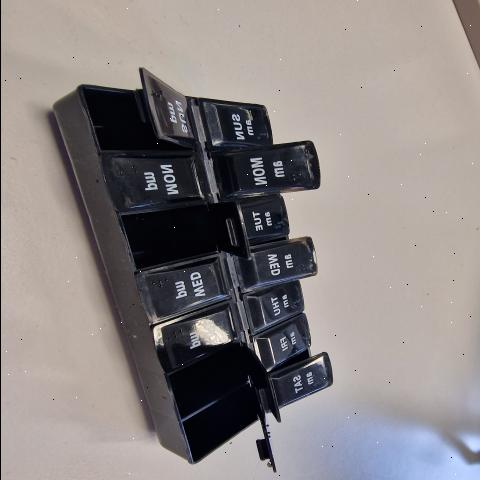Open: (119, 204, 249, 273), (164, 345, 278, 422), (83, 79, 196, 155), (182, 386, 274, 470), (269, 350, 324, 373), (231, 186, 319, 198), (250, 236, 307, 248)
